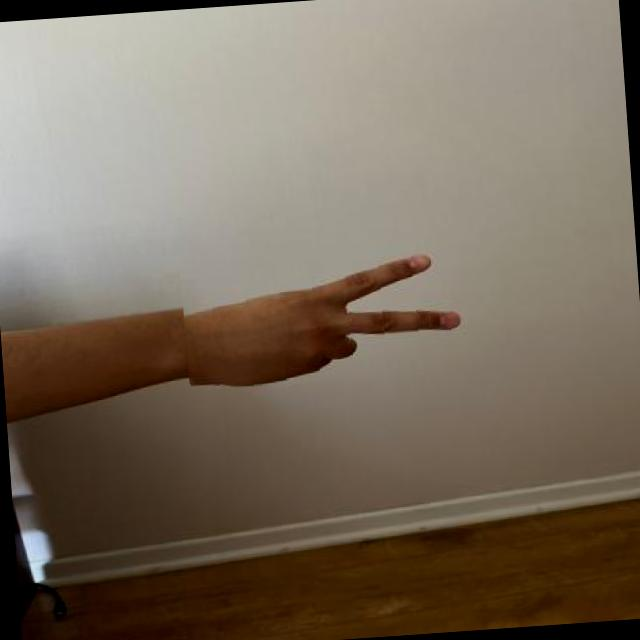H: (179, 243, 470, 390)
